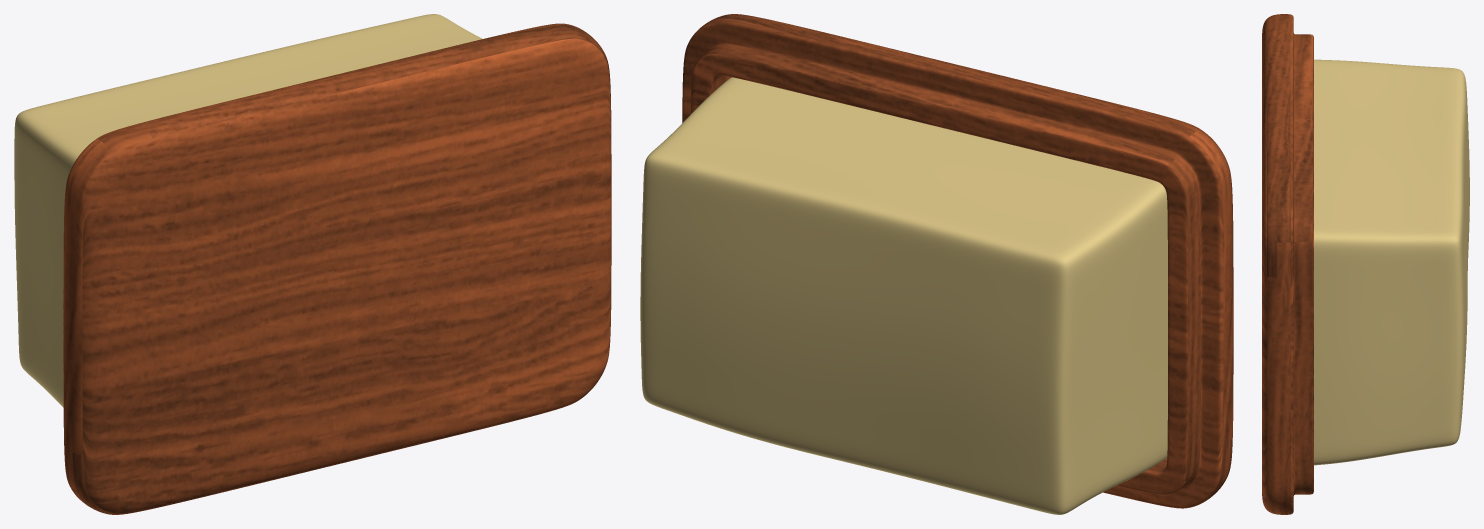
The model's file is butter.fbx.
3 views of the same model, side by side, from view 1: azimuth 30°, elevation 25°; view 2: azimuth 150°, elevation 25°; view 3: azimuth 270°, elevation 25° (orthographic). The views are drawn at different scales.
Parts seen in each view (by area): view 1: Cube.001, Cube; view 2: Cube, Cube.001; view 3: Cube, Cube.001.
Part boxes in pixels (bbox=[...]): Cube.001: bbox=[63, 23, 611, 514]; Cube: bbox=[14, 14, 482, 407]; Cube: bbox=[640, 77, 1167, 514]; Cube.001: bbox=[682, 14, 1233, 508]; Cube: bbox=[1314, 59, 1469, 465]; Cube.001: bbox=[1262, 14, 1313, 514].
Bounding box in the file's own units: 24.72 × 16.71 × 9.89.
Materials: 2 (1 with a texture image).
